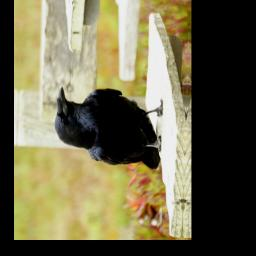Crow: (53, 84, 164, 170)
